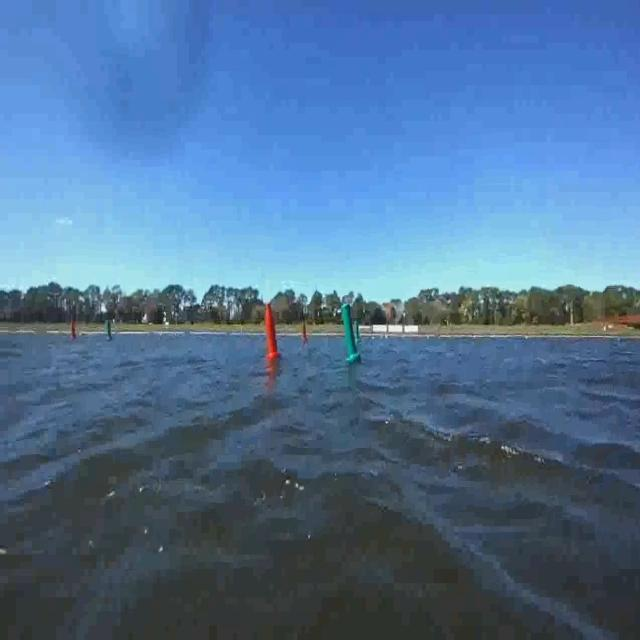green-column-buoy: (342, 303, 362, 363), (105, 318, 115, 341)
red-column-buoy: (264, 304, 282, 360), (70, 322, 79, 344), (302, 324, 310, 343)
